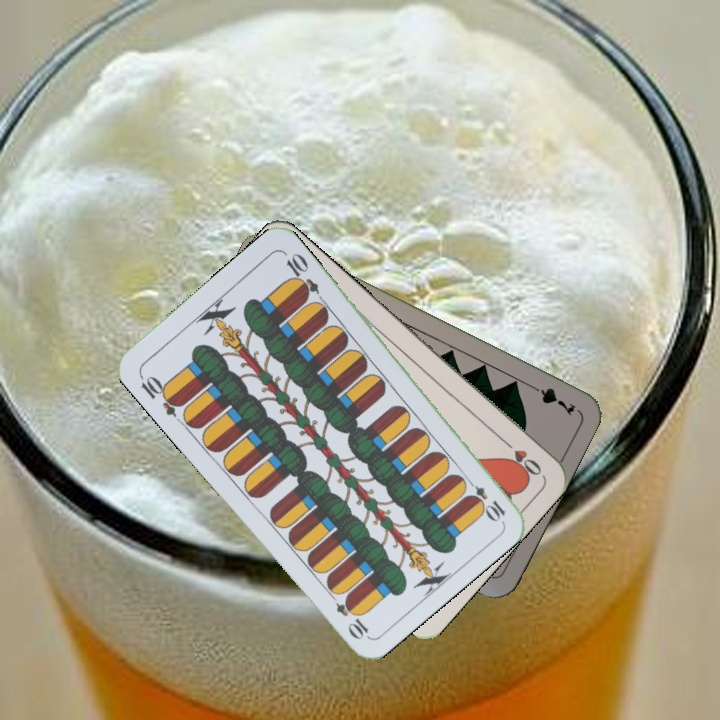E10: (135, 370, 186, 419), (460, 473, 508, 524)
G7: (523, 379, 579, 418)
HO: (497, 434, 545, 479)
